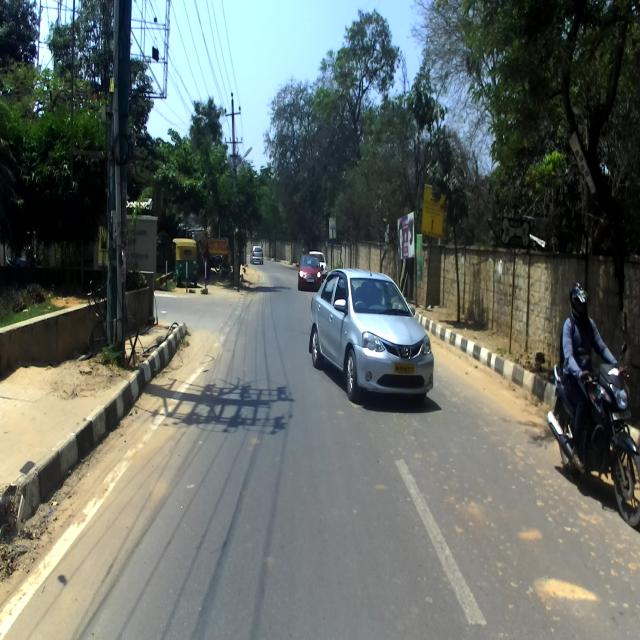car ahead at: (310, 266, 438, 404), (548, 354, 640, 530)
electric pole ahead at: (104, 0, 133, 356)
